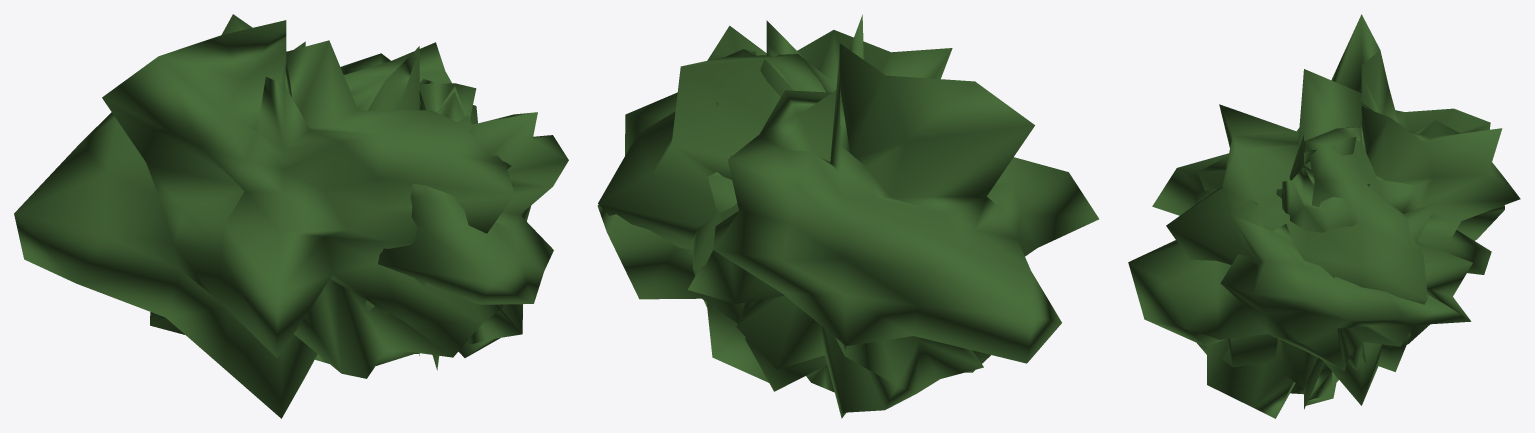
Rendered from shrub.glb.
3 renders of one model, left to right at view 1: azimuth 30°, elevation 25°; view 2: azimuth 150°, elevation 25°; view 3: azimuth 270°, elevation 25°, orthographic. The views are drawn at different scales.
Parts seen in each view (by area): view 1: Shrub; view 2: Shrub; view 3: Shrub.
Part boxes in pixels (left/top/right/bottom): Shrub: left=14, top=14, right=568, bottom=418; Shrub: left=597, top=14, right=1098, bottom=418; Shrub: left=1128, top=14, right=1520, bottom=418.
Bounding box in the file's own units: 4.12 × 2.97 × 3.41.
